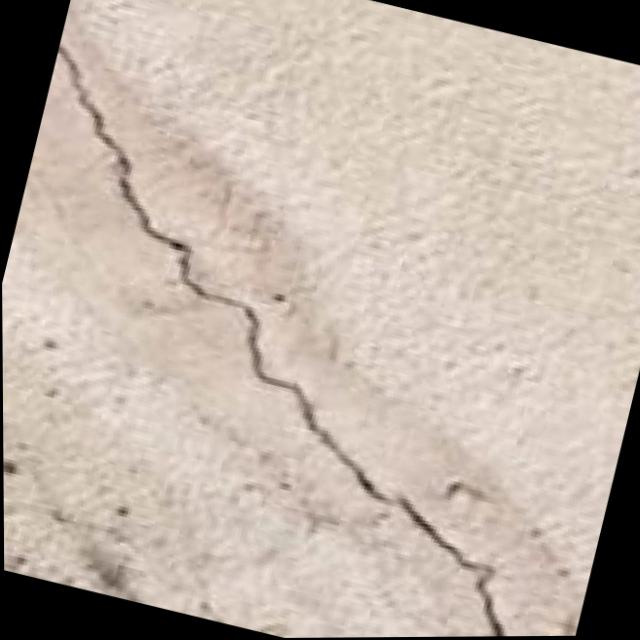Crack: (0, 29, 640, 640)
